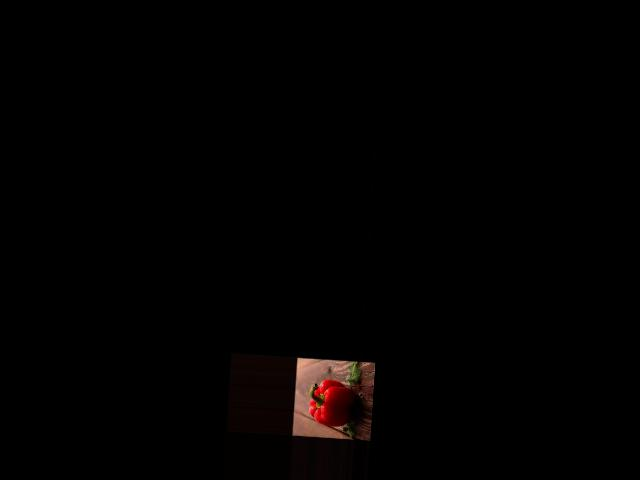bell_pepper: (304, 375, 357, 430)
